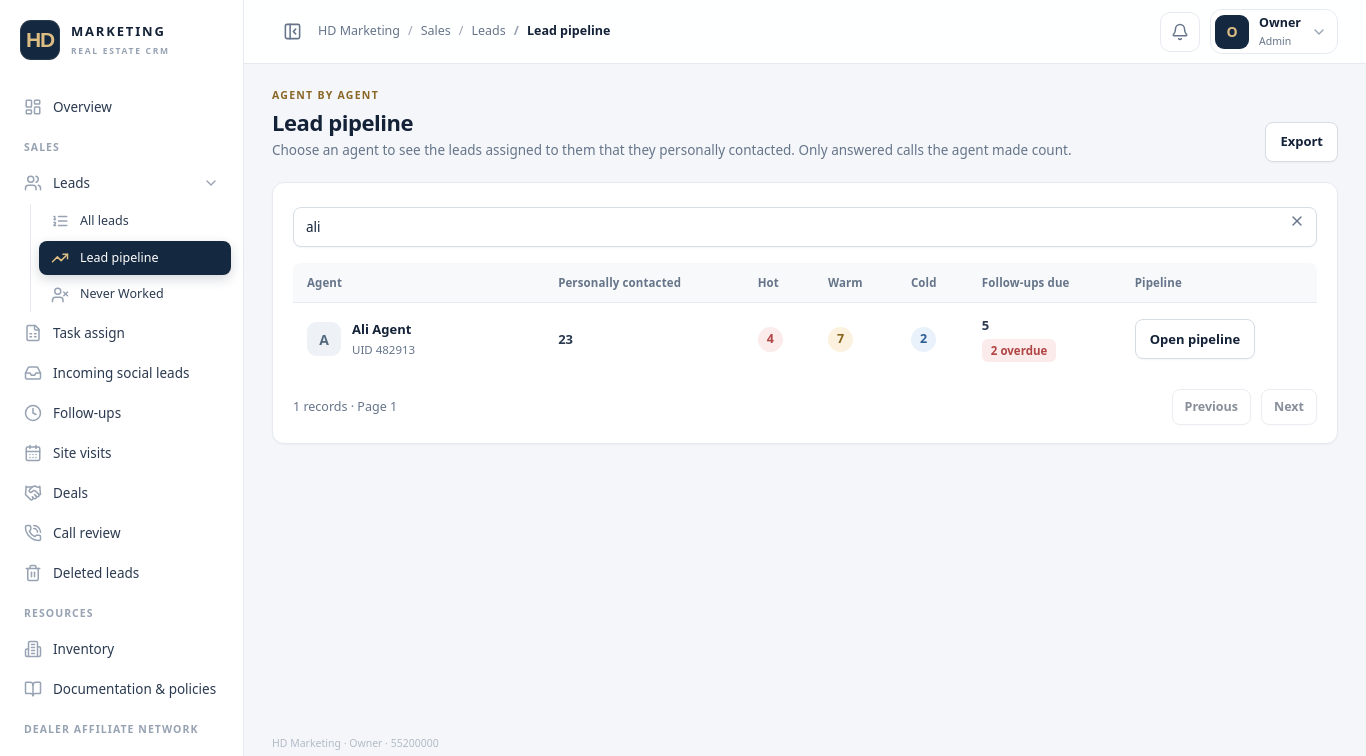
Test: the agent directory › opens an agent's pipeline and comes back to the same search
Click the link with aria-label "Open Ali Agent's pipeline": {"x": 1195, "y": 339} [1135,319,1255,359]
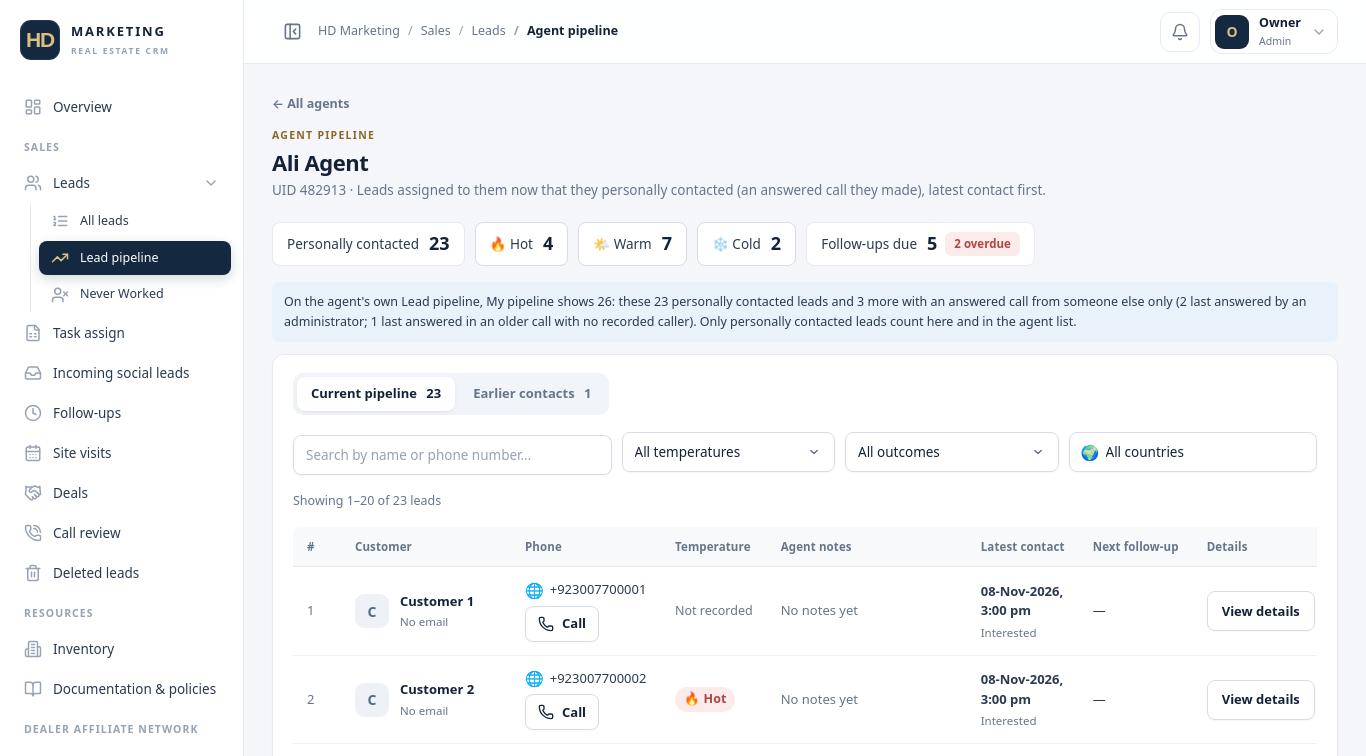
Now the heading "Ali Agent" is shown, box [272,147,368,177]
Click the link "← All agents": {"x": 311, "y": 103} [272,95,349,112]
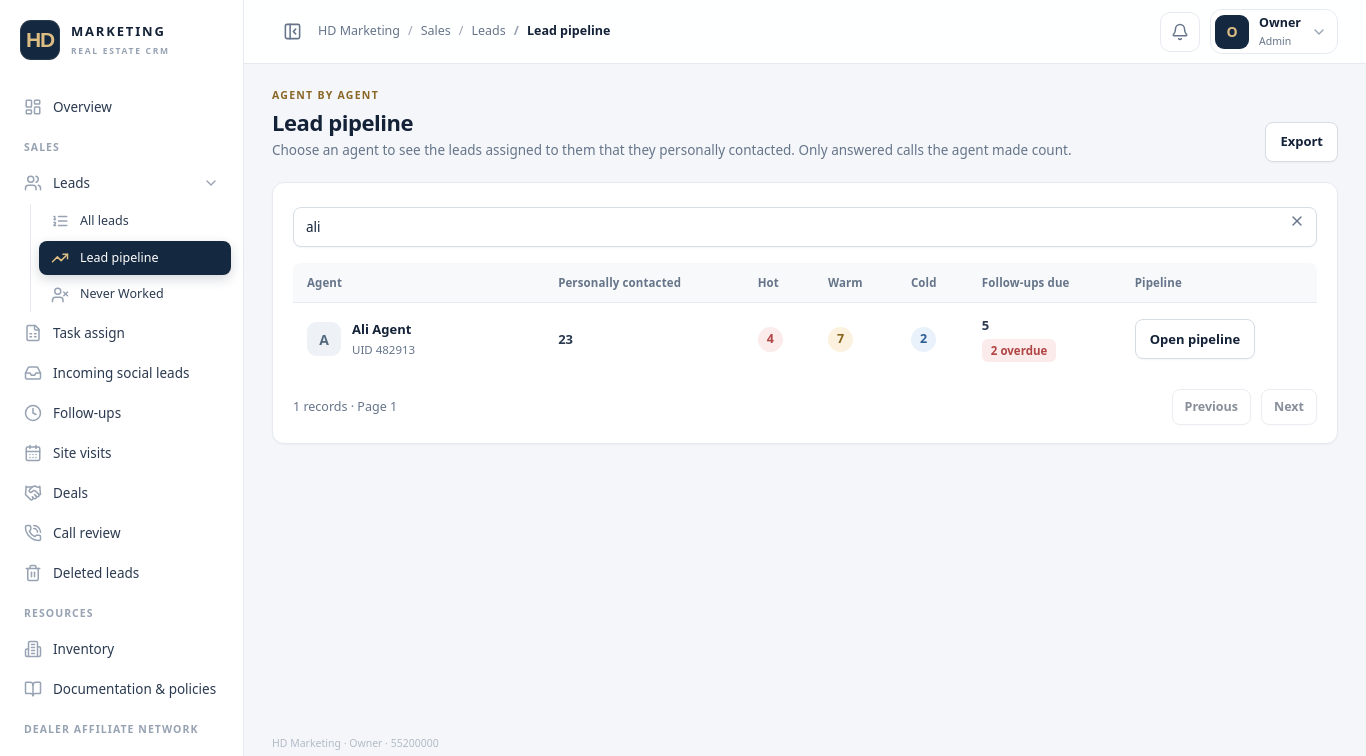
Now the field named "Search agents" holds "ali", box [293,207,1317,247]
